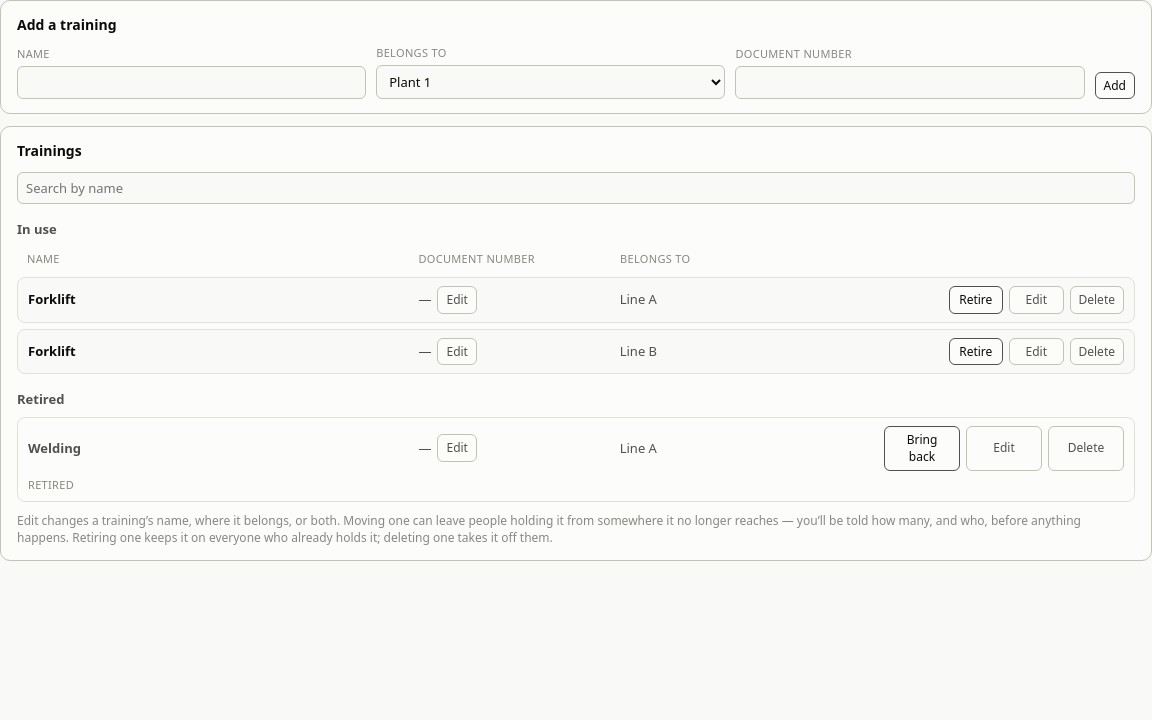
Test case: TrainingsPanel — retire and bring back › T10: Delete opens the confirmation instead of deleting
Click the button with aria-label "Delete Forklift at Line A" at (1097, 300), box [1070, 286, 1124, 314]
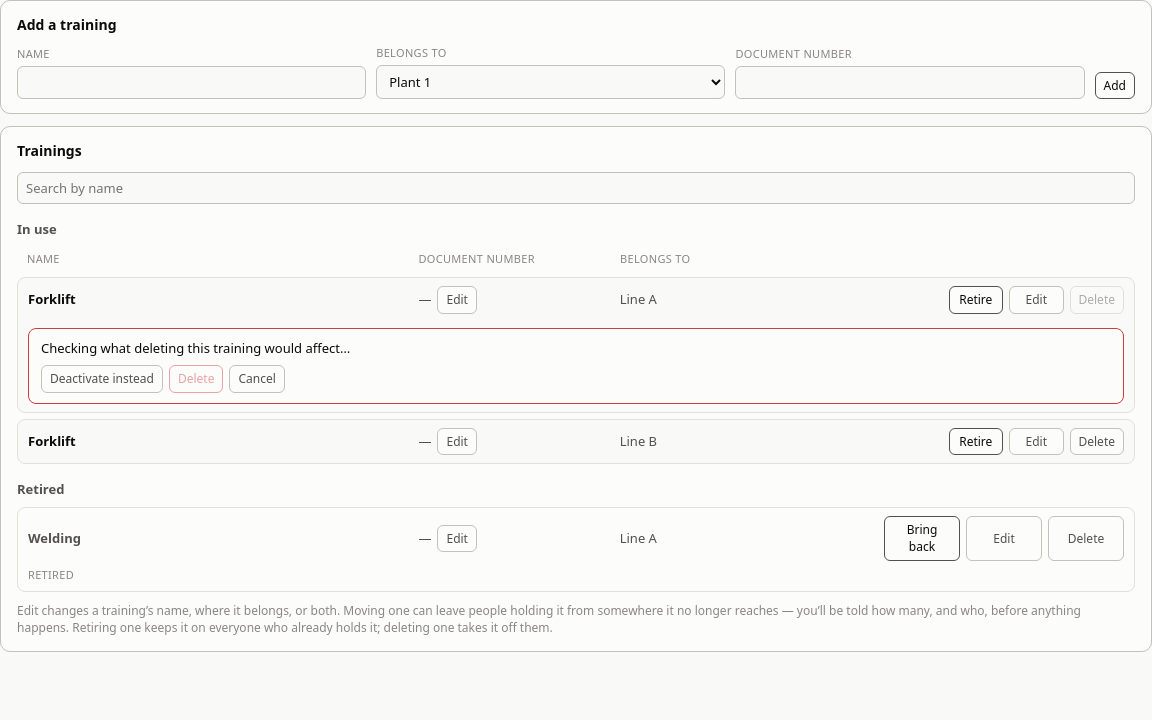
expect the element named "Delete Forklift" is shown: met, box [28, 328, 1124, 404]
